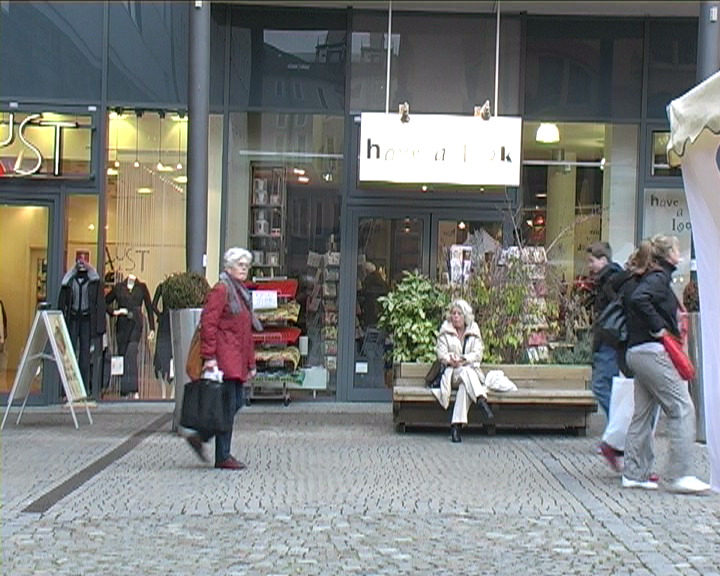deflection: (208, 247, 269, 338)
